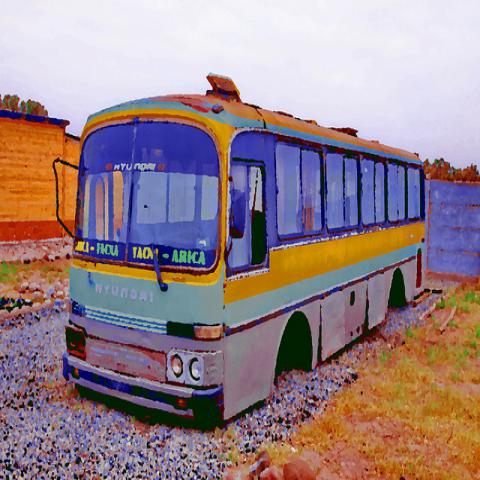bus: (54, 75, 427, 427)
